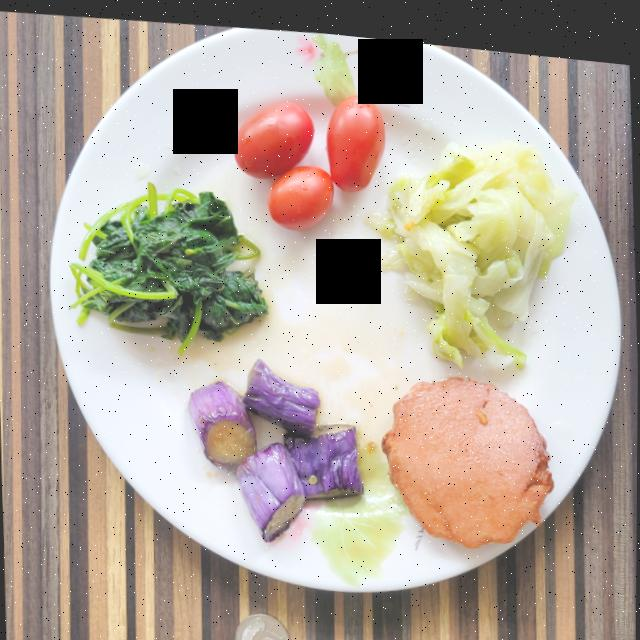Spam: (383, 367, 554, 538)
cabbage: (371, 129, 576, 356)
coin: (236, 607, 291, 640)
sweet potato leaves: (71, 181, 268, 349)
